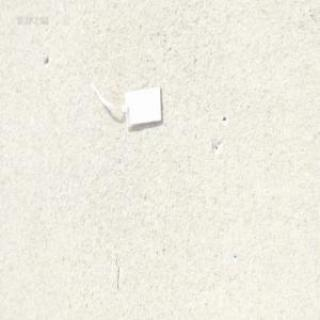LuggageTagtrack_idkeyframe: (86, 76, 162, 132)
